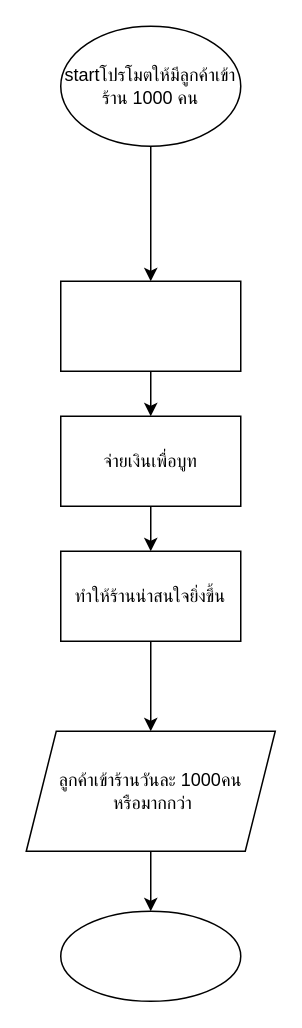
The diagram is 302 pixels wide and 1028 high, and some of its shapes have lost their labels. Each missing label, with the centre of its shape:
stop: point 150,955
สร้าสือโปรโมท ในอินเทอร์เนต , เว็บเพจ , youtube , ig , tiktook,facebook: point 150,325
